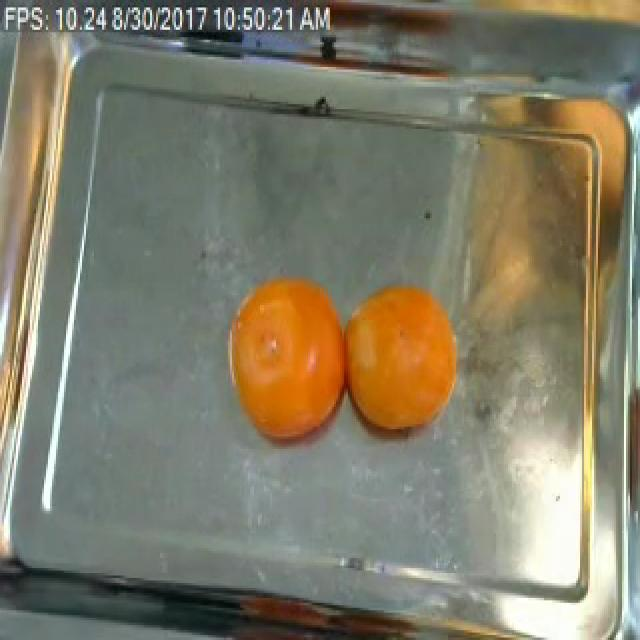Fruit: (214, 260, 356, 454), (332, 265, 468, 454)
